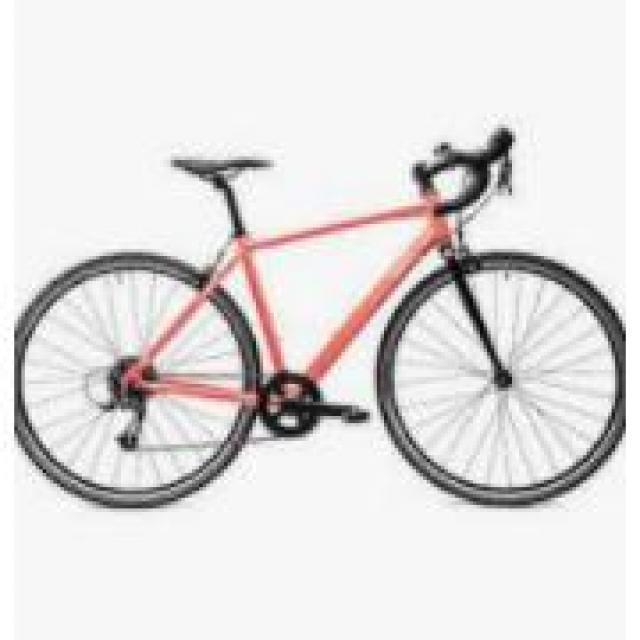bicycle: (37, 126, 620, 542)
